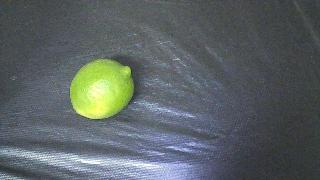LOCAL: (70, 59, 134, 119)
